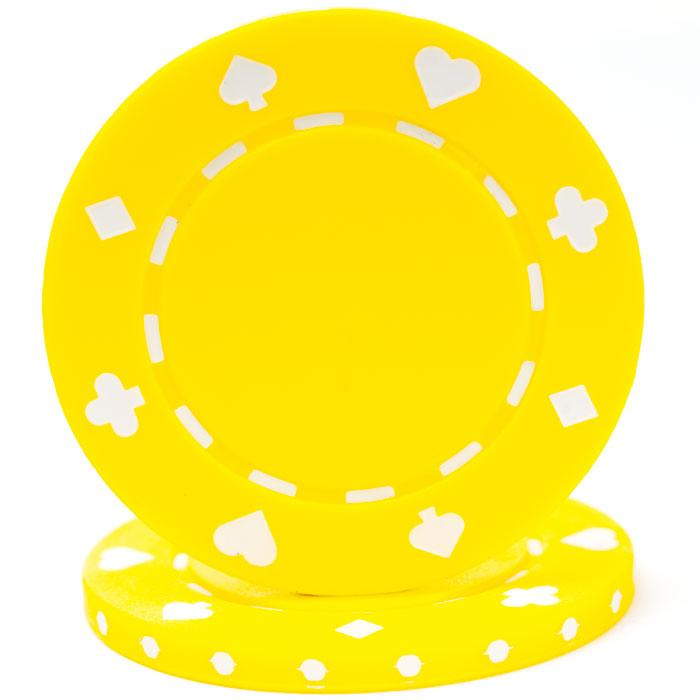chip-yellow: (44, 10, 643, 594), (83, 500, 633, 692)
